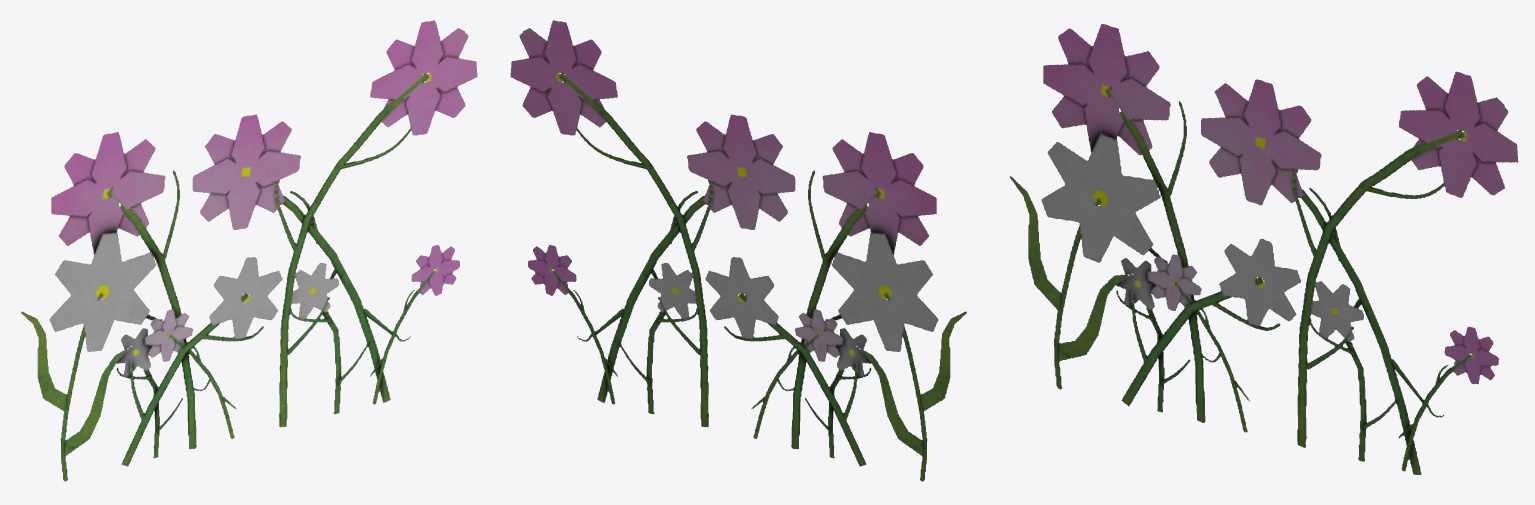
The model's file is Flowers_04.fbx.
3 renders of one model, left to right at view 1: azimuth 30°, elevation 25°; view 2: azimuth 150°, elevation 25°; view 3: azimuth 330°, elevation 25°, orthographic. The views are drawn at different scales.
Visible parts, largest first — view 1: Flowers_04; view 2: Flowers_04; view 3: Flowers_04.
Part boxes in pixels (x1,y1,x2,y2): Flowers_04: [21, 20, 477, 481]; Flowers_04: [510, 20, 966, 481]; Flowers_04: [1009, 24, 1518, 474].
Size of the model in its own units: 0.00738 by 0.00581 by 0.
